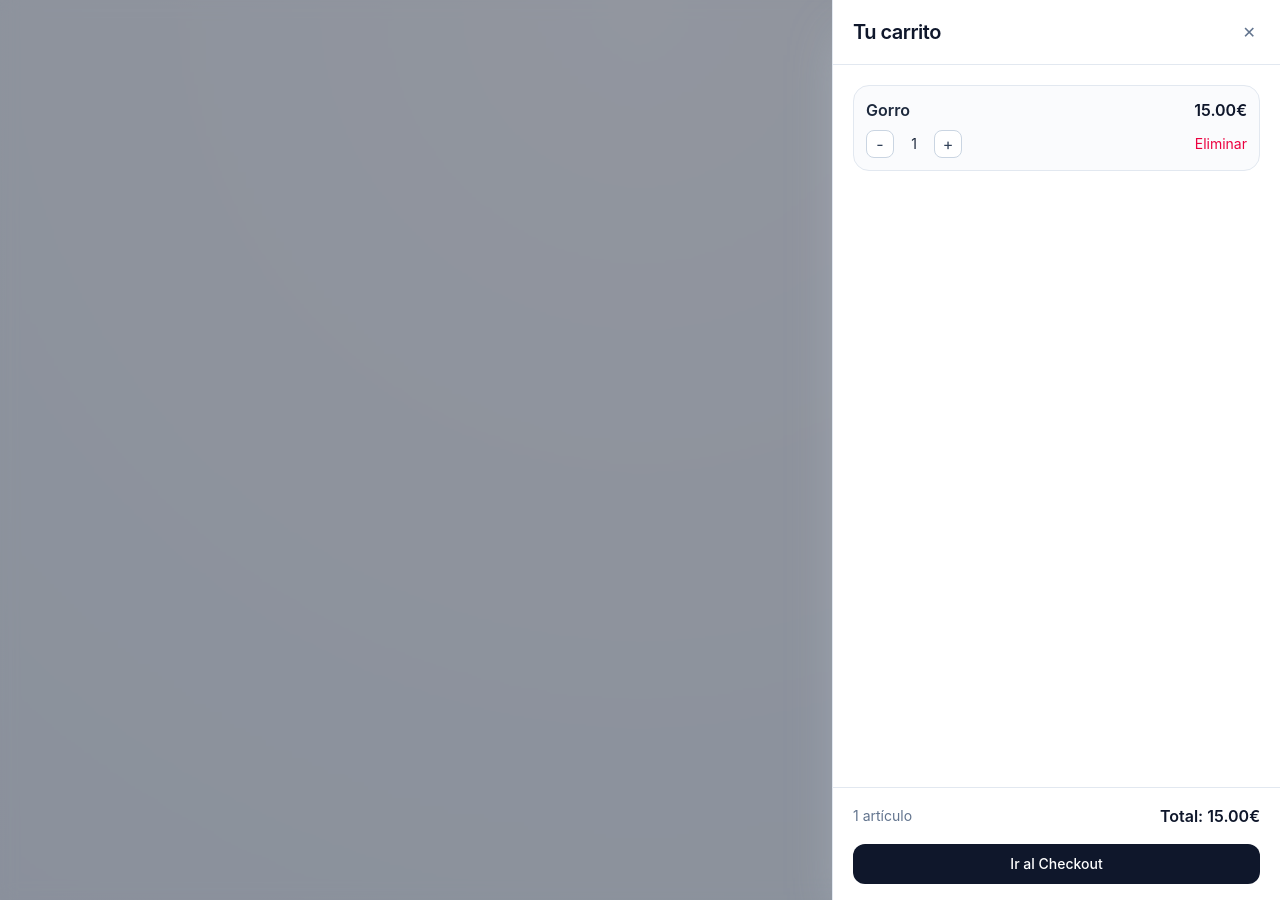
Test: CartDrawer › Interactions › should display updated quantity after increment
Check: the text "1" is shown, box left=911, top=135, right=917, bottom=152
# Click + button
Click the button "+" at point(948, 144), box left=934, top=130, right=962, bottom=158
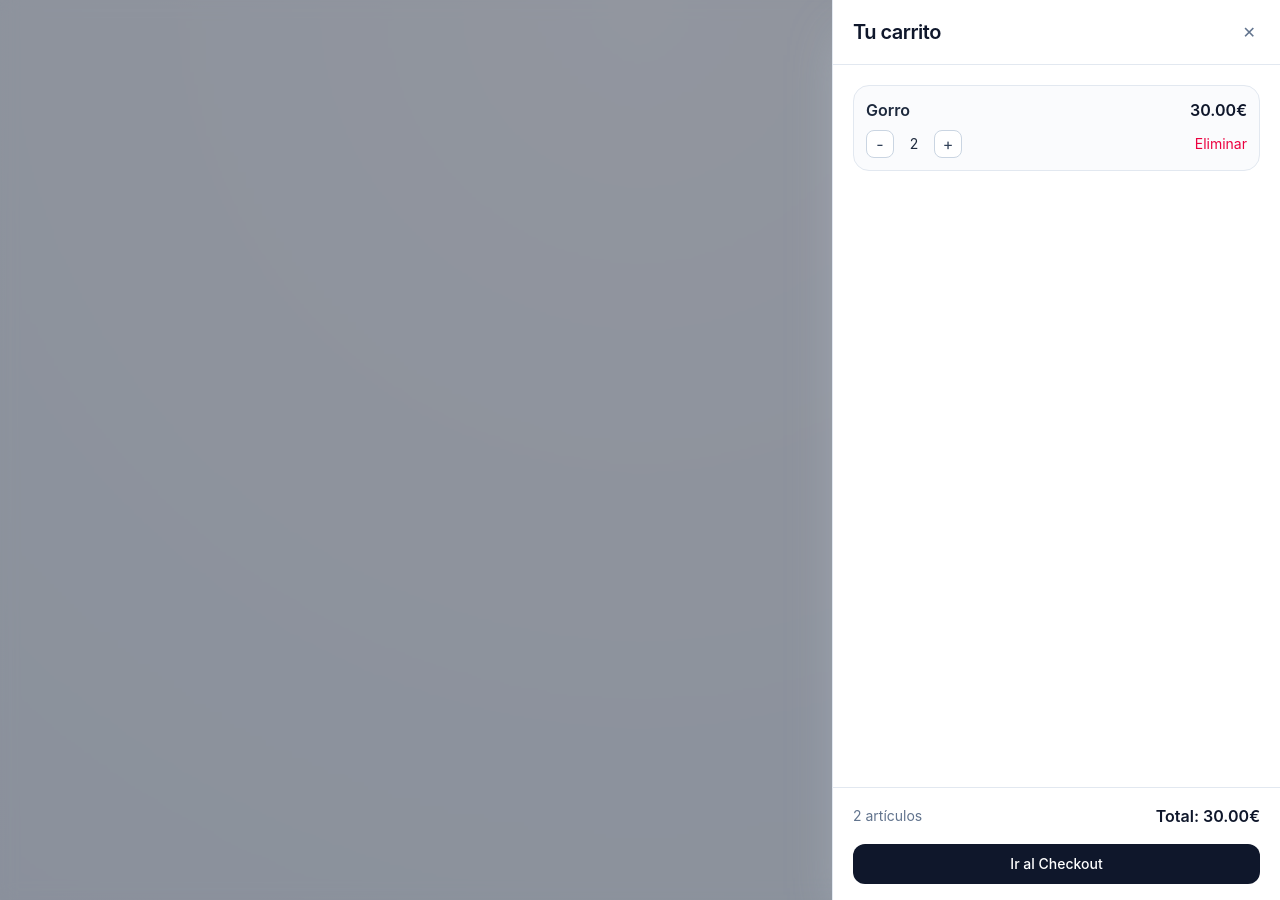
Check: the text "2" is shown, box left=910, top=135, right=918, bottom=152
